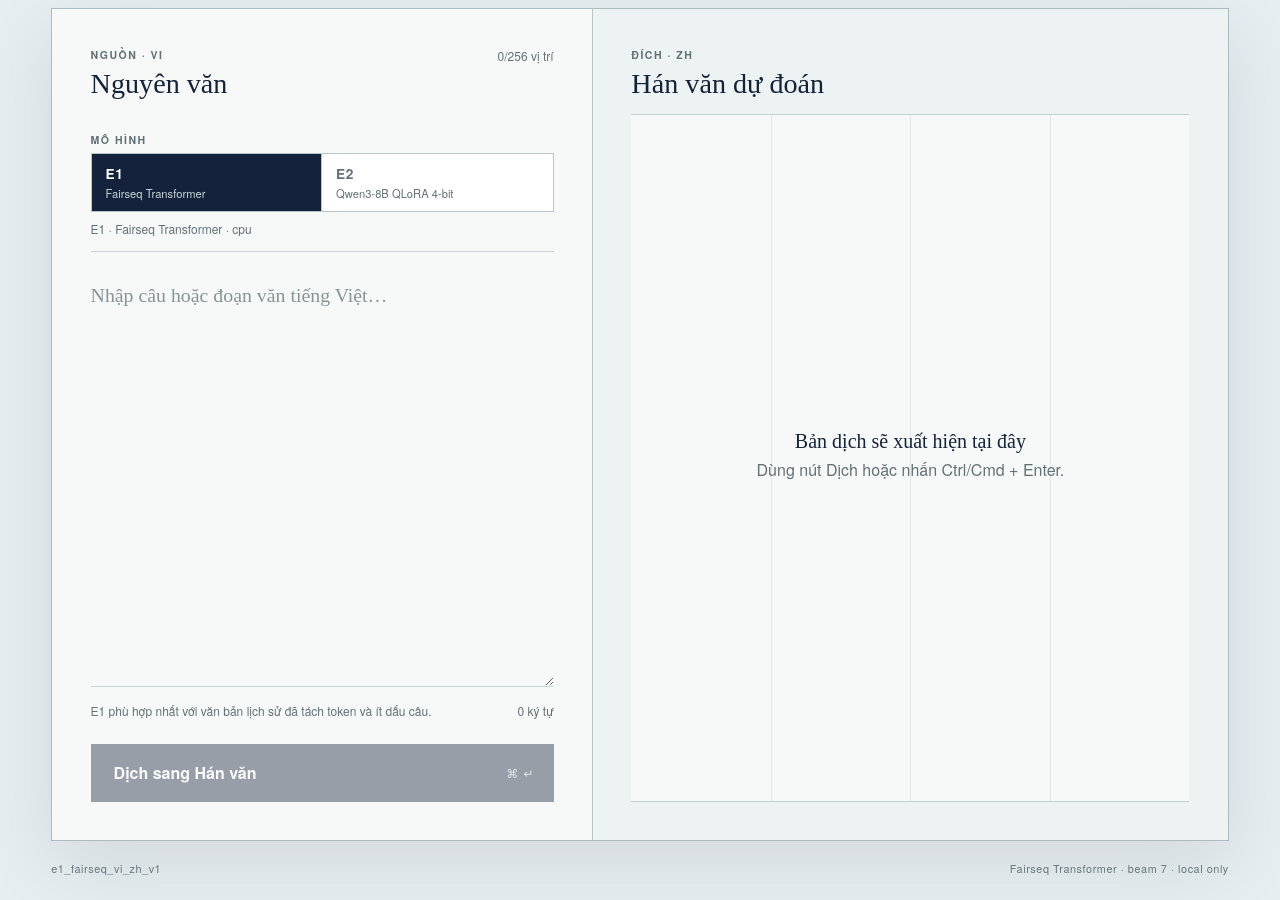
it: E1/E2 MT interface › submits with Ctrl+Enter
The width and height of the screenshot is (1280, 900).
(page scrolled)
Type "Vua" into the text box named "Văn bản tiếng Việt cần dịch". click: (322, 469)
box: left=91, top=251, right=554, bottom=687
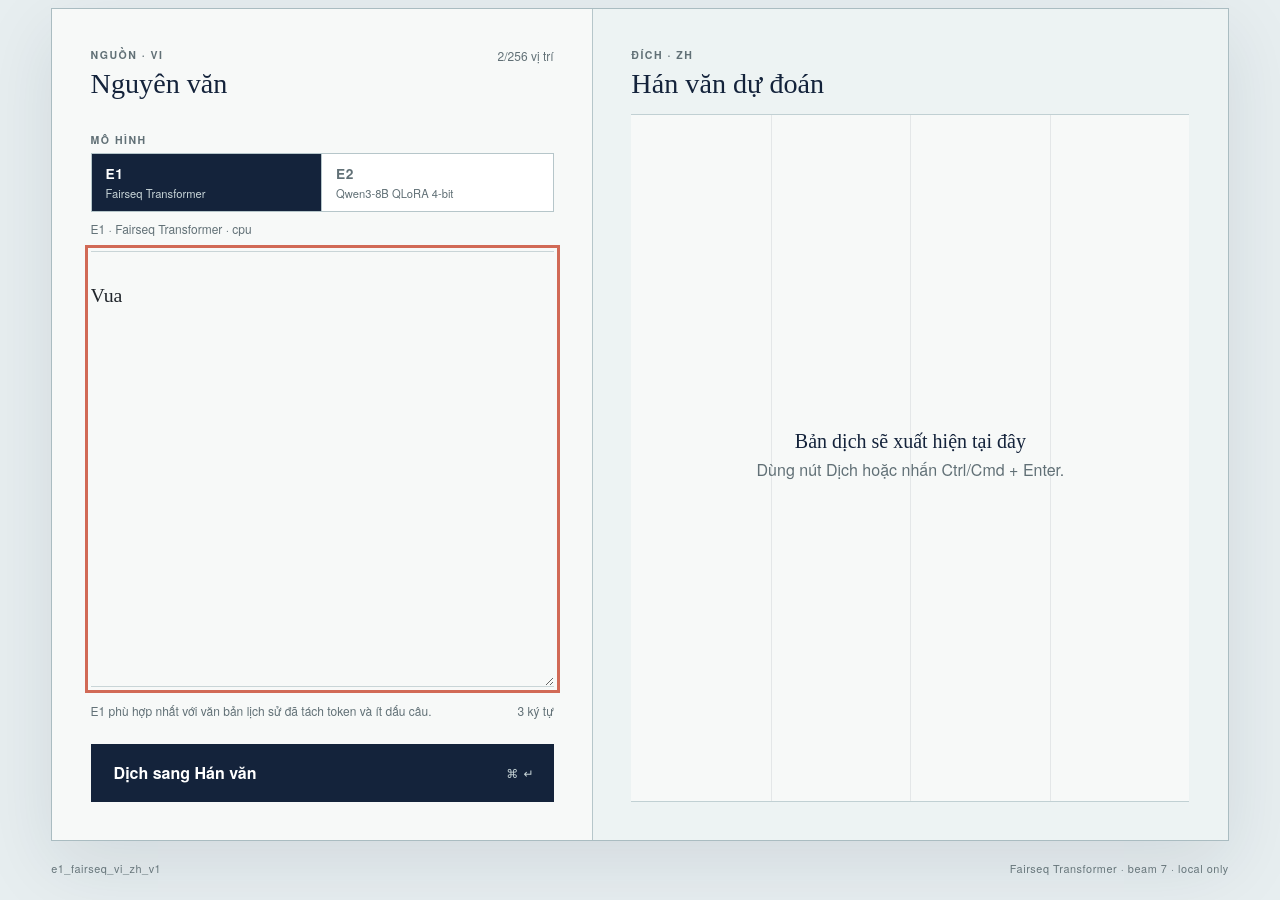
Type keys "{Control>}{Enter}{/Control}"
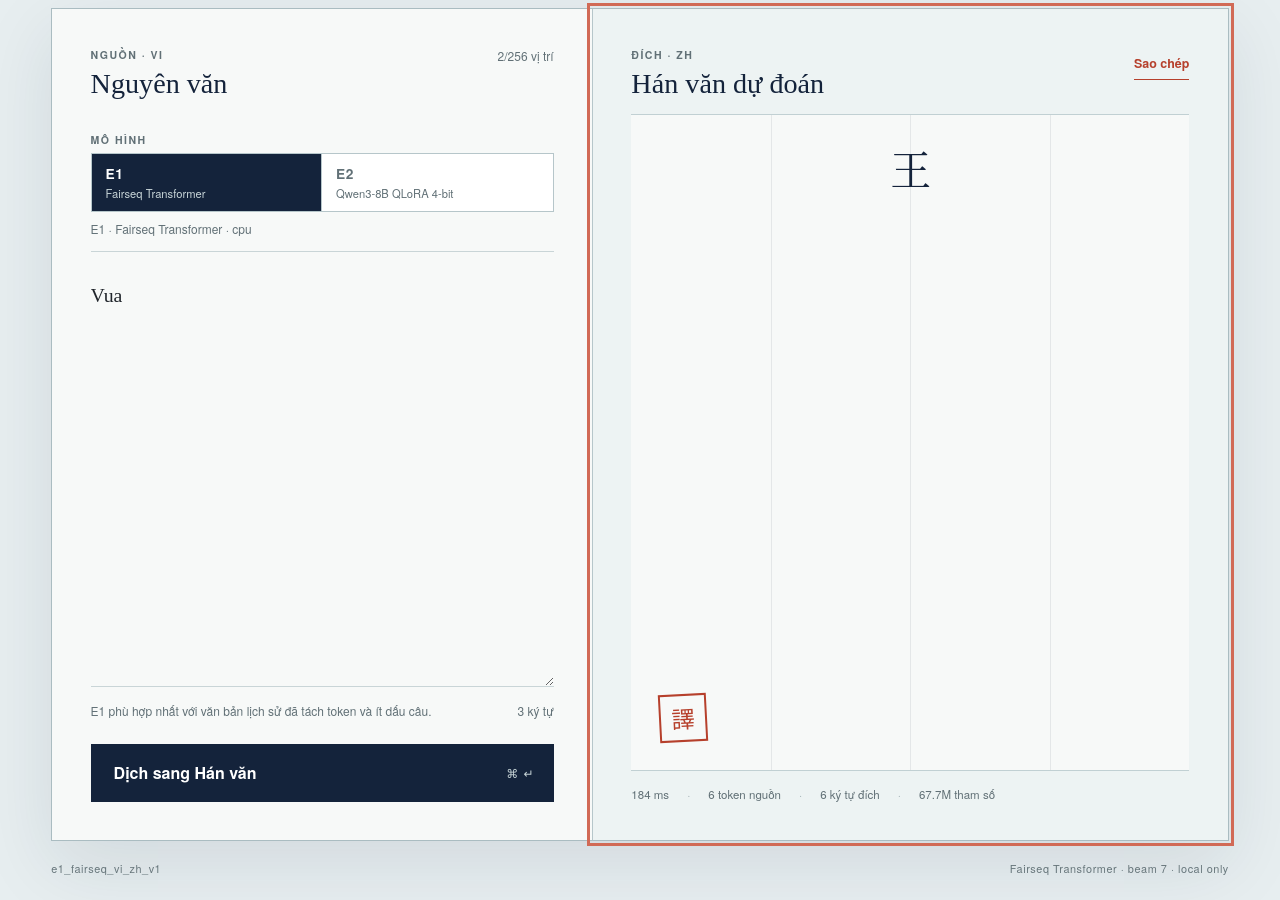
Expected: the text "王" is shown, left=879, top=149, right=942, bottom=196
